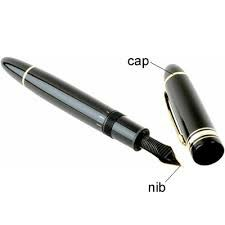pen: (1, 51, 180, 170)
